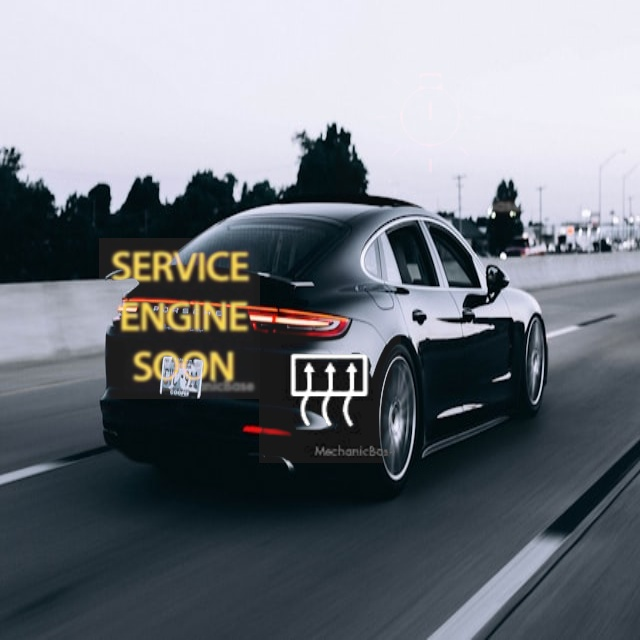symbol: (336, 28, 529, 221), (99, 238, 260, 399), (259, 321, 401, 463)
